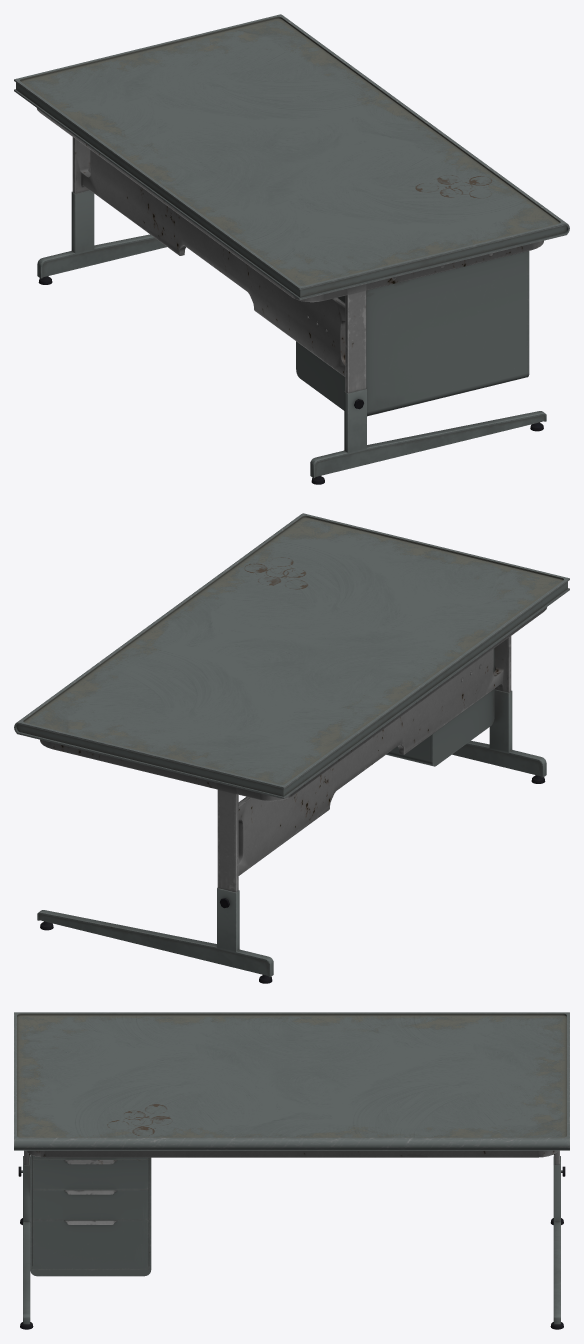
The model's file is Furniture_Desk_A1.obj.
3 renders of one model, top to bottom at view 1: azimuth 30°, elevation 25°; view 2: azimuth 150°, elevation 25°; view 3: azimuth 270°, elevation 25°, orthographic. The views are drawn at different scales.
Parts seen in each view (by area): view 1: SM_Furniture_Desk_A1_01; view 2: SM_Furniture_Desk_A1_01; view 3: SM_Furniture_Desk_A1_01.
Part boxes in pixels (x1=…): SM_Furniture_Desk_A1_01: x1=14, y1=14, x2=569, y2=484; SM_Furniture_Desk_A1_01: x1=14, y1=513, x2=569, y2=983; SM_Furniture_Desk_A1_01: x1=14, y1=1012, x2=569, y2=1329.
Bounding box in the file's own units: 5210 × 3762 × 9539.
Materials: 1 (1 with a texture image).
